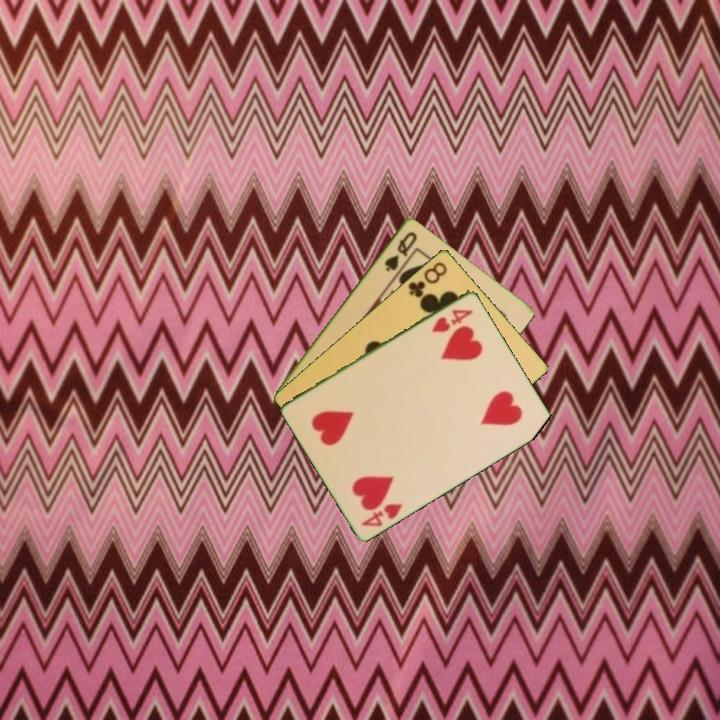4h: (428, 305, 476, 335), (358, 499, 405, 529)
8c: (404, 258, 450, 300)
Qs: (381, 228, 420, 274)
